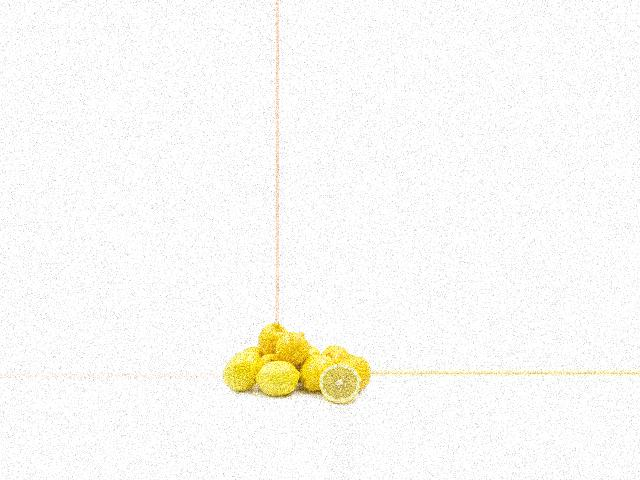lemon: (337, 356, 368, 389)
